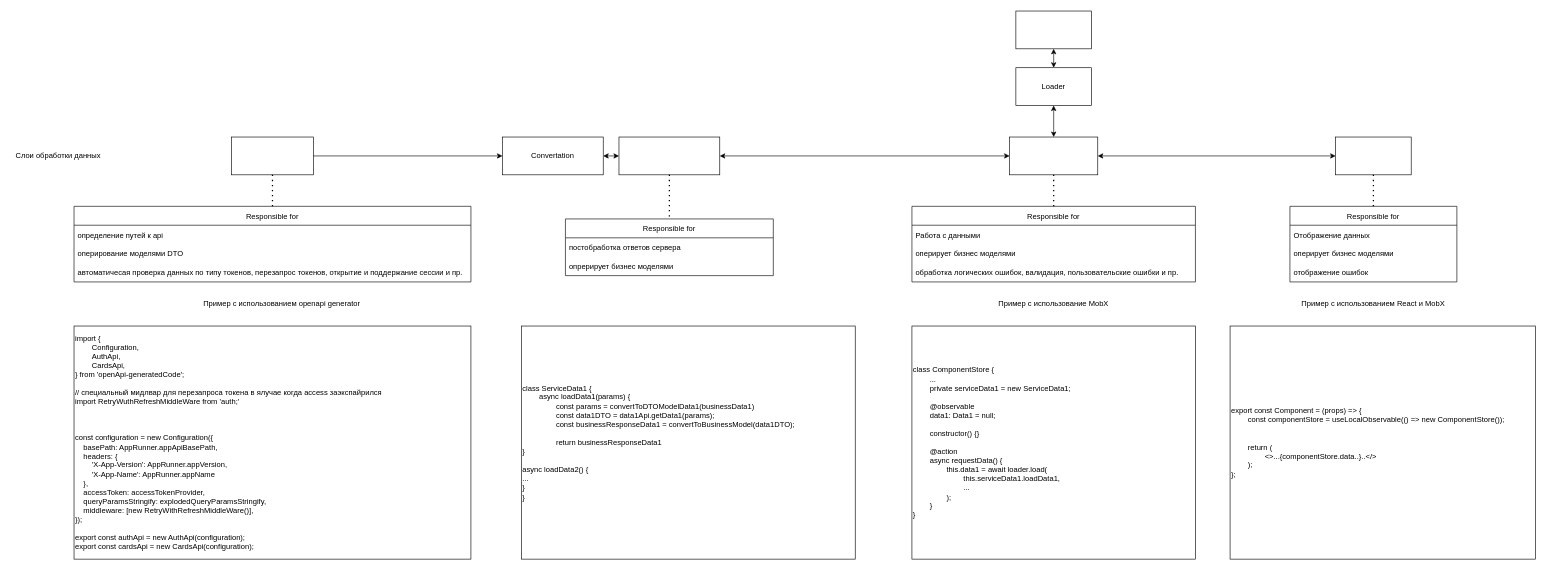
The diagram is 1547 pixels wide and 570 high, and some of its shapes have lost their labels. The box of each missing label's shape, as (x1, y1, x2, y2) in pixels:
Autogenerated Transport Layer: (231, 136, 313, 175)
Data Processing Layer (Business Layer): (1009, 136, 1098, 175)
Error handler: (1015, 10, 1091, 49)
Transport <--> Business Service Layer: (618, 136, 720, 175)
UI: (1335, 136, 1411, 175)
